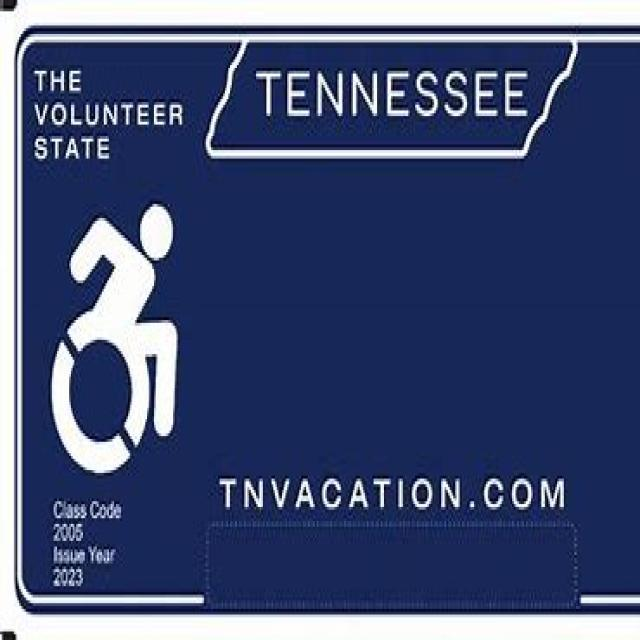symbol_of_access: (50, 205, 181, 474)
